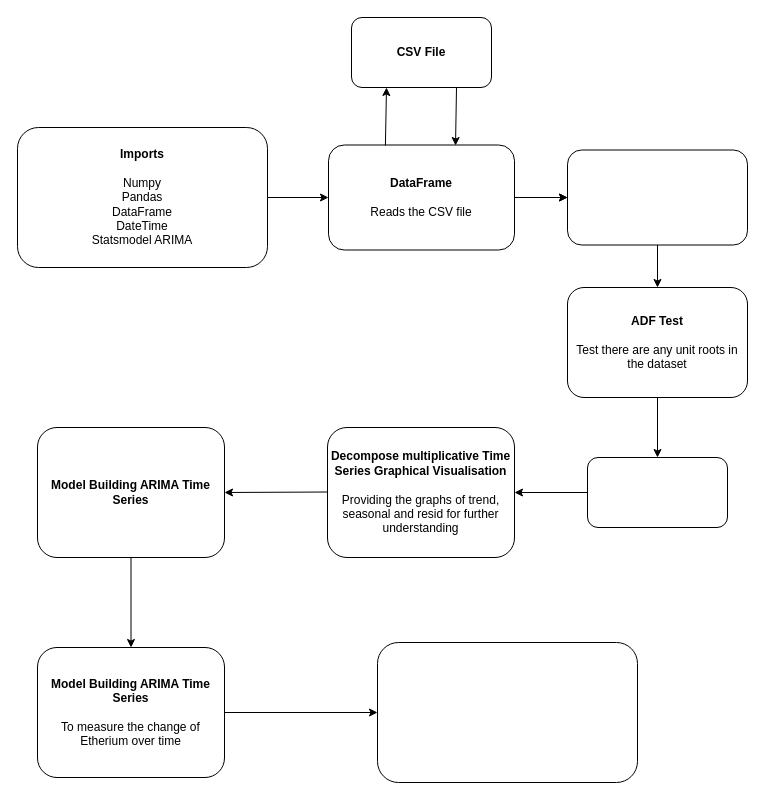
This 765x800 diagram has some shape labels left out. The shapes that lost their labels are listed below. From the top down, each one's centre as x and y in pixels, then its label:
At [657,197]: "Data Testing Ensure the file is read accordingly".
At [657,492]: "Data Visualisation".
At [507,712]: "The Output Prediction Values and Visualisation".
